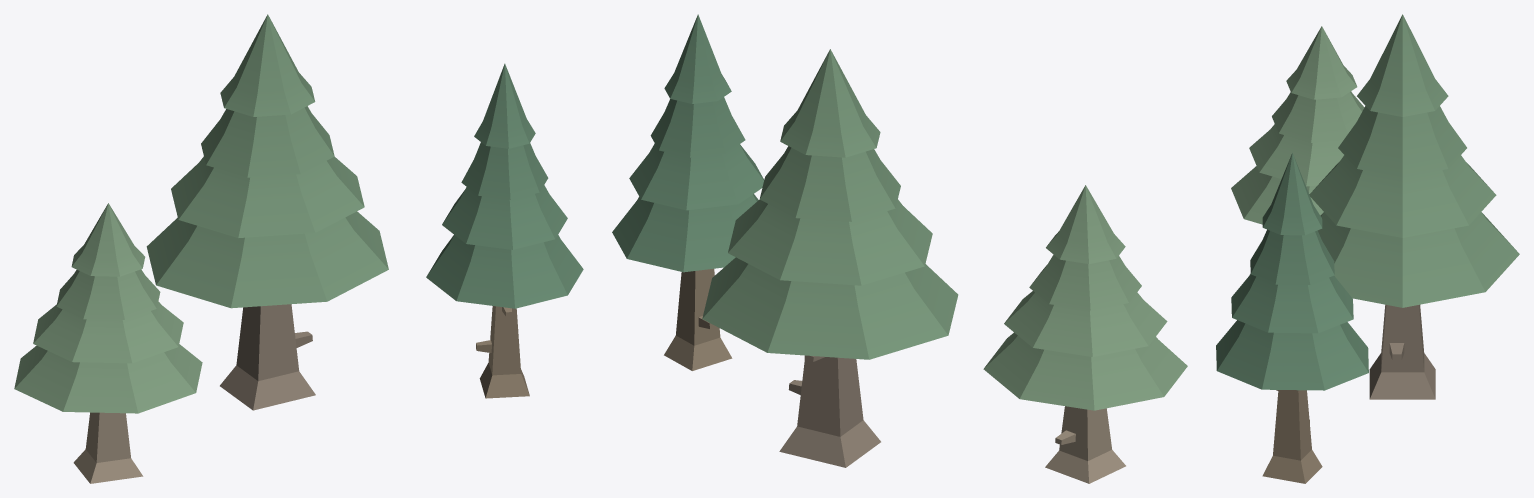
The model's file is veg_alpine_conifer.glb.
3 renders of one model, left to right at view 1: azimuth 30°, elevation 25°; view 2: azimuth 150°, elevation 25°; view 3: azimuth 270°, elevation 25°, orthographic. The views are drawn at different scales.
Visible parts, largest first — view 1: clump_0, clump_1, clump_2; view 2: clump_0, clump_1, clump_2; view 3: clump_0, clump_2, clump_1.
Boxes of the visible parts, bbox=[...] form: clump_0: bbox=[146, 14, 388, 410]; clump_1: bbox=[14, 203, 202, 483]; clump_2: bbox=[426, 63, 583, 398]; clump_0: bbox=[702, 49, 958, 467]; clump_1: bbox=[983, 185, 1187, 483]; clump_2: bbox=[612, 14, 764, 370]; clump_0: bbox=[1309, 14, 1519, 399]; clump_2: bbox=[1216, 152, 1368, 483]; clump_1: bbox=[1231, 26, 1364, 224].
Size of the model in its own units: 1.64 by 1.11 by 0.8273.
